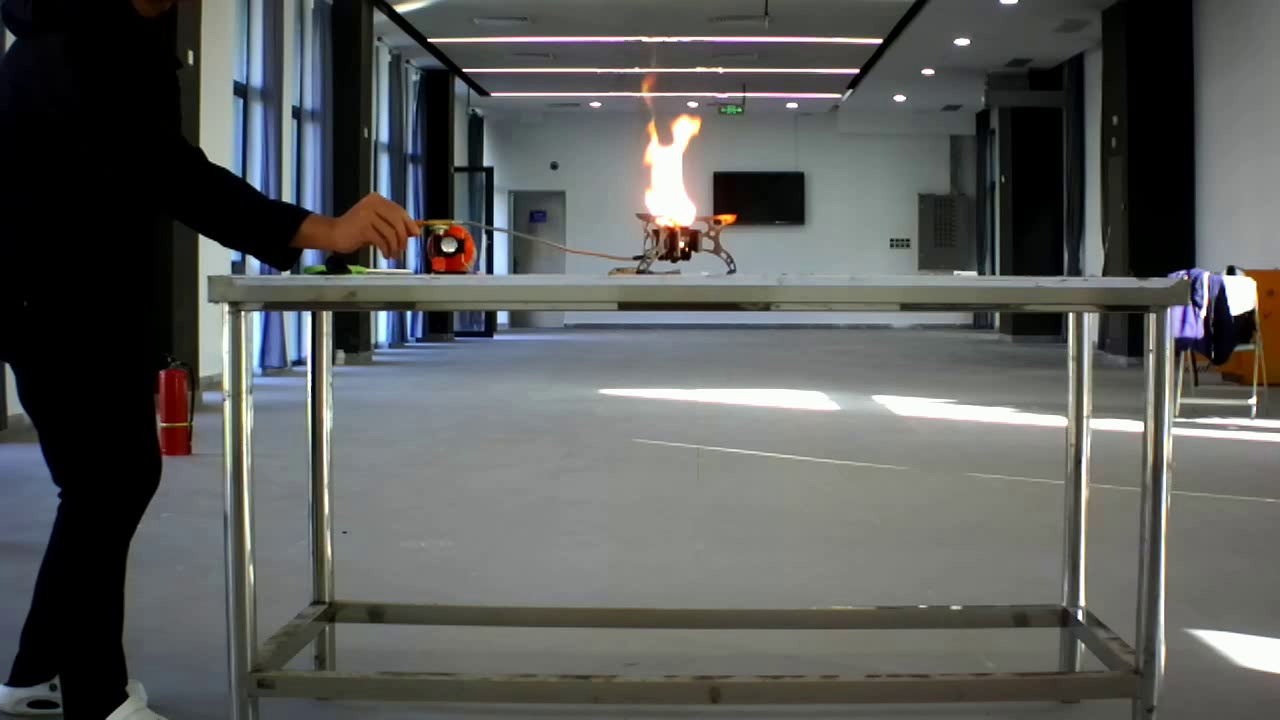Fire: (620, 86, 743, 262)
